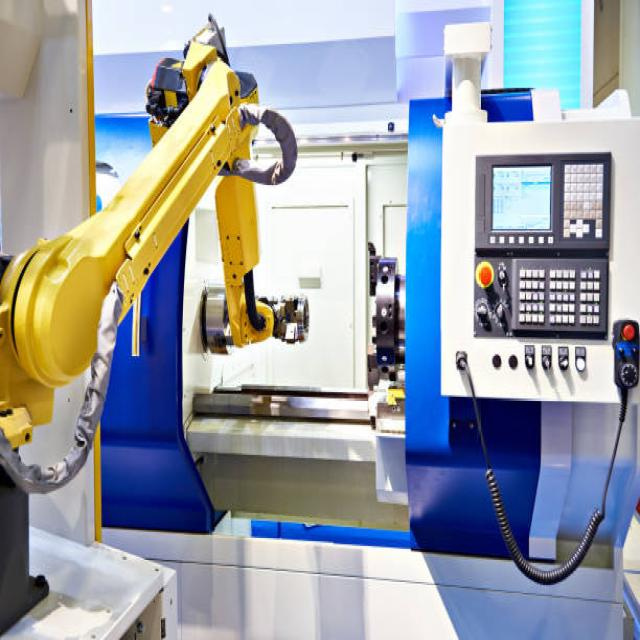Robotic-arm: (0, 15, 325, 462)
